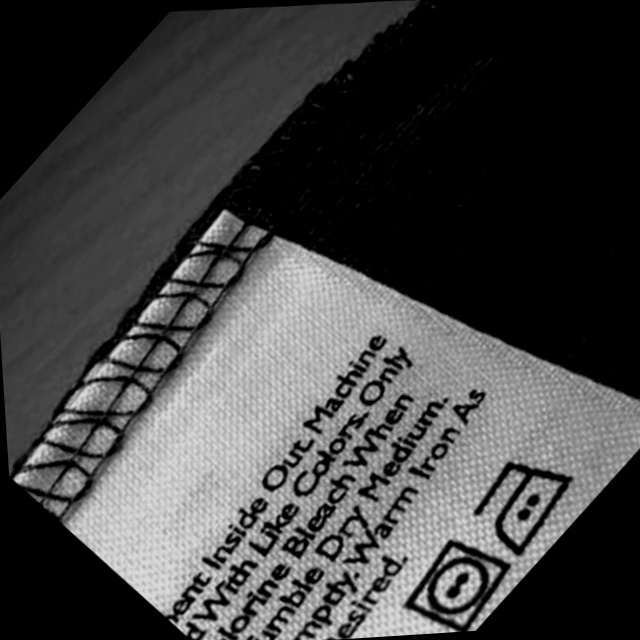iron_medium: (472, 456, 584, 556)
tumble_dry_medium: (402, 537, 518, 633)
